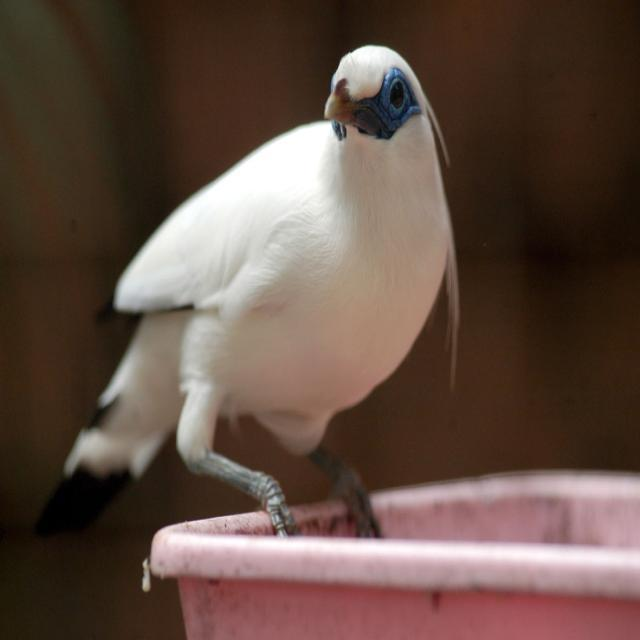Jalak Bali: (46, 30, 463, 612)
